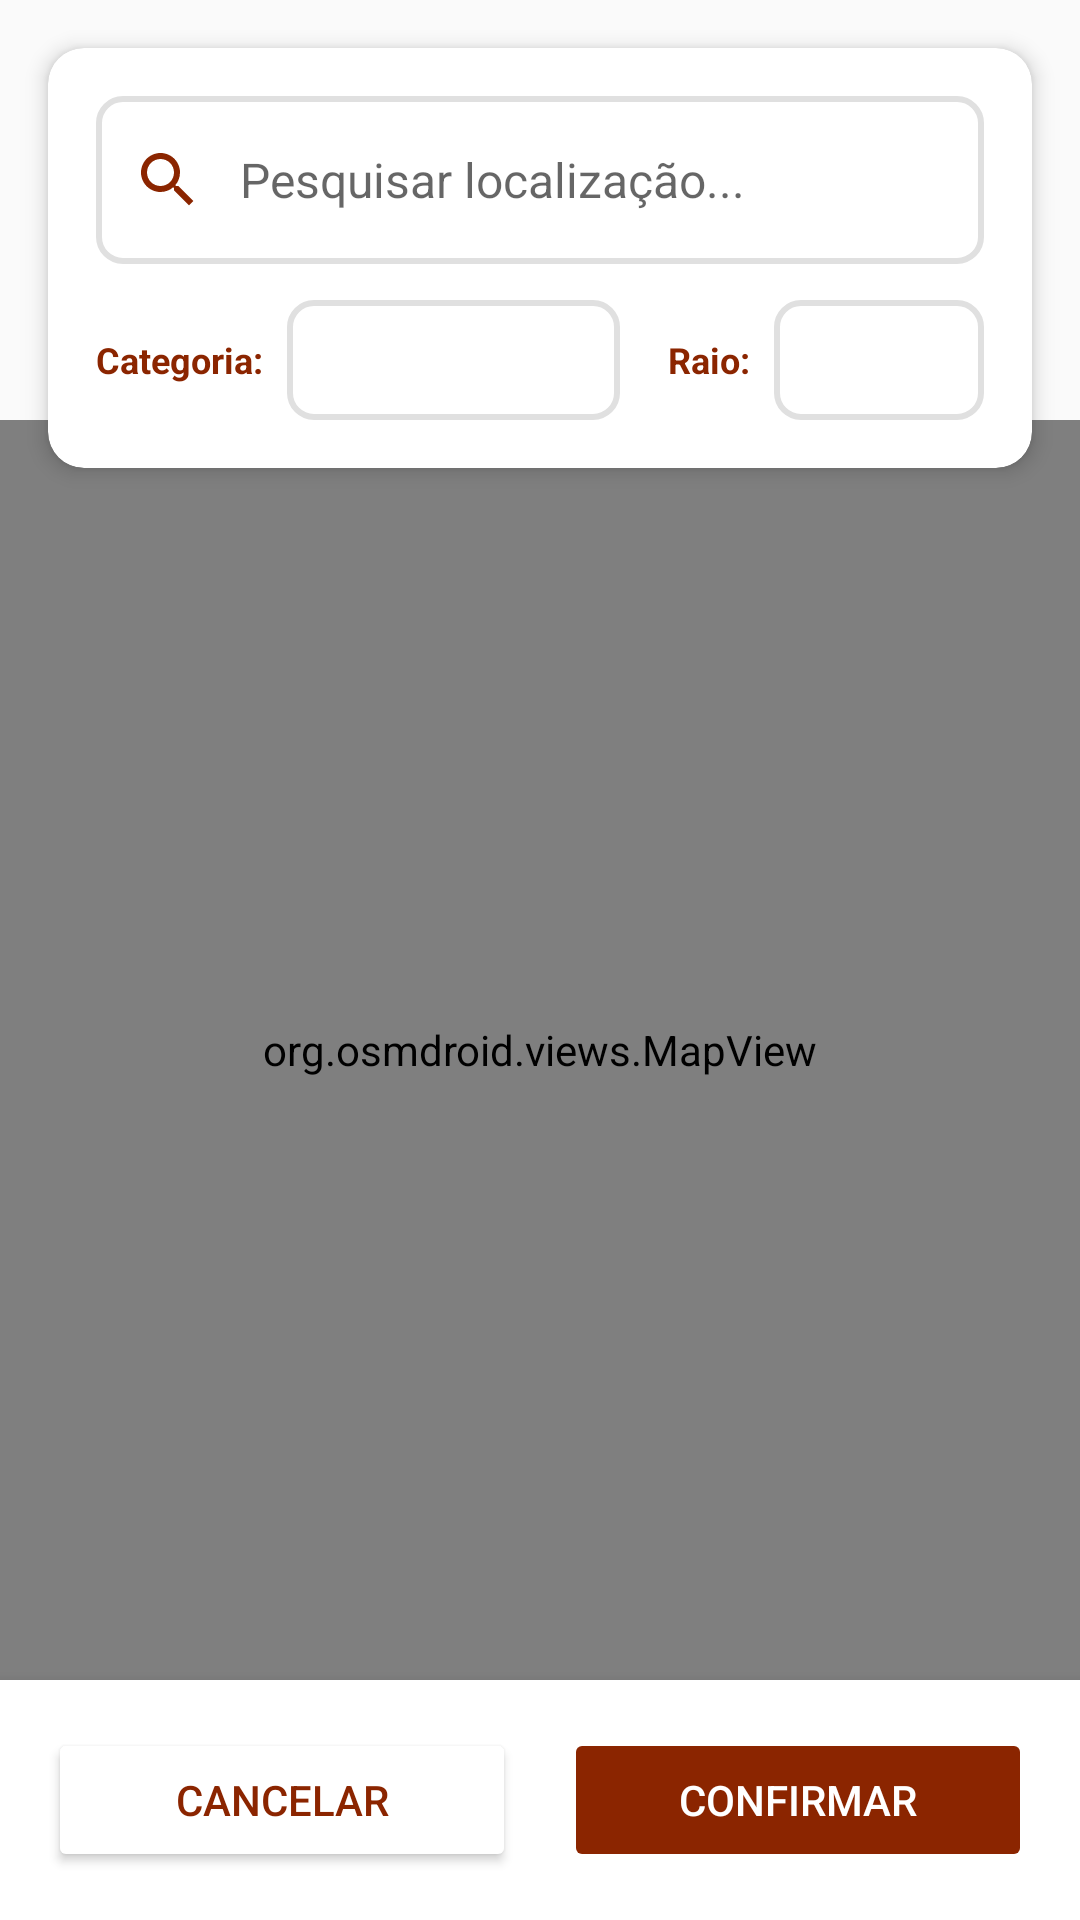

Icons on this 1080 x 1920 Android screen, each with its box as (x1, y1, x2, y2):
search: (141, 153, 193, 205)
